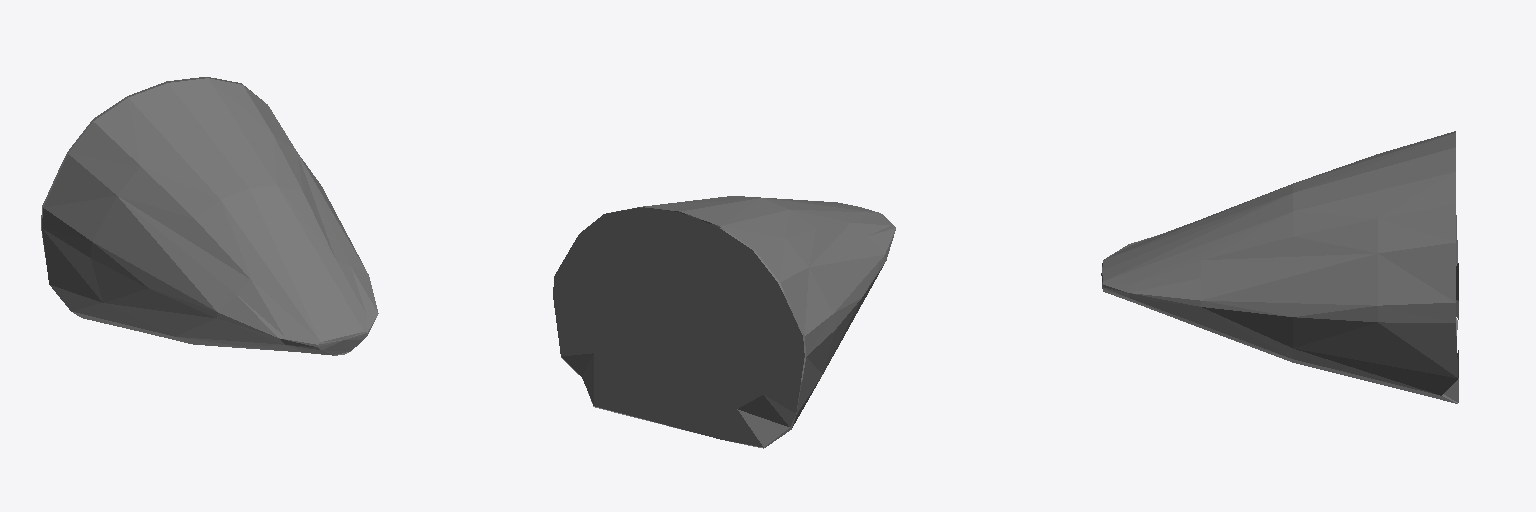
File: shark_head_002.obj
The picture shows the model from 3 angles: view 1: azimuth 30°, elevation 25°; view 2: azimuth 150°, elevation 25°; view 3: azimuth 270°, elevation 25°; orthographic projection.
Visible parts, largest first — view 1: shark_head_003:transform1 メッシュ; view 2: pDisc1 メッシュ, shark_head_003:transform1 メッシュ; view 3: shark_head_003:transform1 メッシュ.
Part boxes in pixels (x1,y1,x2,y2): shark_head_003:transform1 メッシュ: (42, 78, 378, 355); pDisc1 メッシュ: (553, 207, 804, 447); shark_head_003:transform1 メッシュ: (561, 196, 895, 448); shark_head_003:transform1 メッシュ: (1101, 131, 1457, 403).
Bounding box in the file's own units: 2.67 × 2.21 × 3.27.